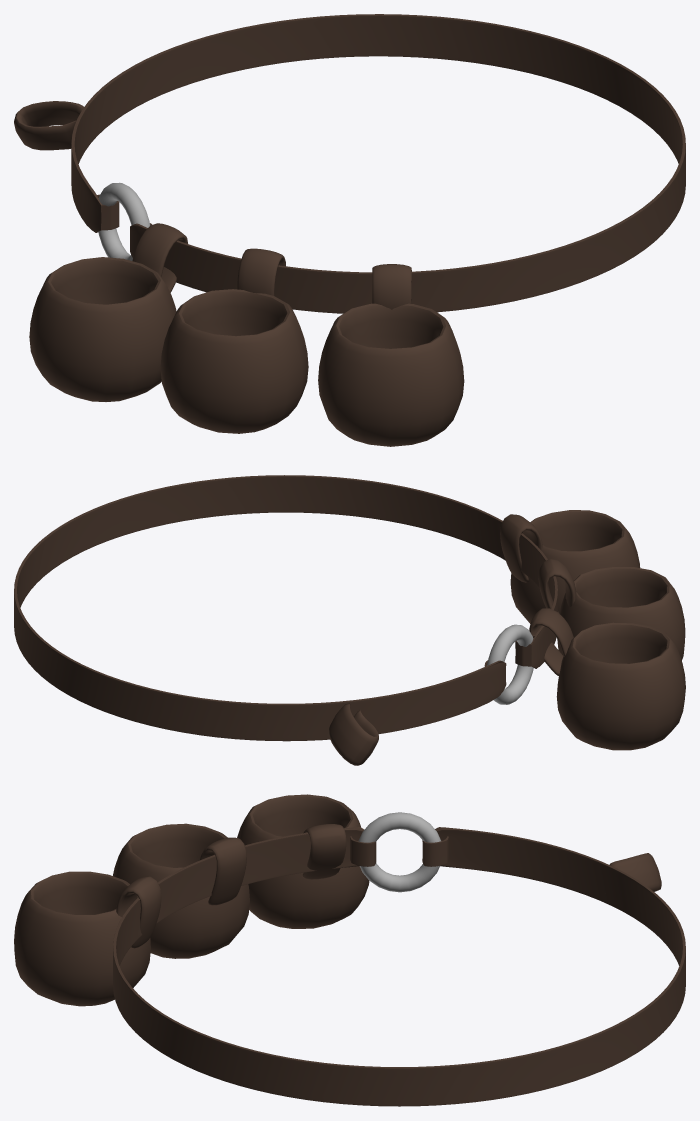
The model's file is LeatherBeltWithPotsAdjusted.fbx.
3 renders of one model, top to bottom at view 1: azimuth 30°, elevation 25°; view 2: azimuth 150°, elevation 25°; view 3: azimuth 270°, elevation 25°, orthographic. The views are drawn at different scales.
Parts seen in each view (by area): view 1: ver2, pot.002, pot.001, pot, hanger.003, hanger, Torus, hanger.002, hanger.001; view 2: ver2, pot, pot.002, pot.001, hanger.003, Torus, hanger.001, hanger, hanger.002; view 3: ver2, pot.001, pot, pot.002, Torus, hanger.002, hanger, hanger.001, hanger.003.
Boxes of the visible parts, box(x1,y1,x2,y2) form: ver2: box(71, 14, 685, 313); pot.002: box(160, 289, 308, 433); pot.001: box(318, 303, 464, 446); pot: box(29, 257, 176, 401); hanger.003: box(14, 101, 83, 150); hanger: box(132, 223, 187, 292); Torus: box(98, 182, 150, 260); hanger.002: box(237, 248, 285, 295); hanger.001: box(372, 264, 411, 309); ver2: box(14, 475, 557, 741); pot: box(556, 622, 685, 750); pot.002: box(557, 567, 685, 660); pot.001: box(510, 510, 640, 623); hanger.003: box(329, 703, 378, 765); Torus: box(487, 624, 533, 704); hanger.001: box(500, 514, 542, 582); hanger: box(529, 608, 573, 675); hanger.002: box(538, 558, 576, 613); ver2: box(113, 827, 685, 1106); pot.001: box(14, 871, 150, 1006); pot: box(237, 794, 369, 928); pot.002: box(113, 823, 249, 958); Torus: box(358, 812, 440, 892); hanger.002: box(199, 837, 246, 905); hanger: box(302, 824, 346, 879); hanger.001: box(116, 876, 161, 948); hanger.003: box(605, 853, 661, 893).
Size of the model in its own units: 533 by 115 by 507.
